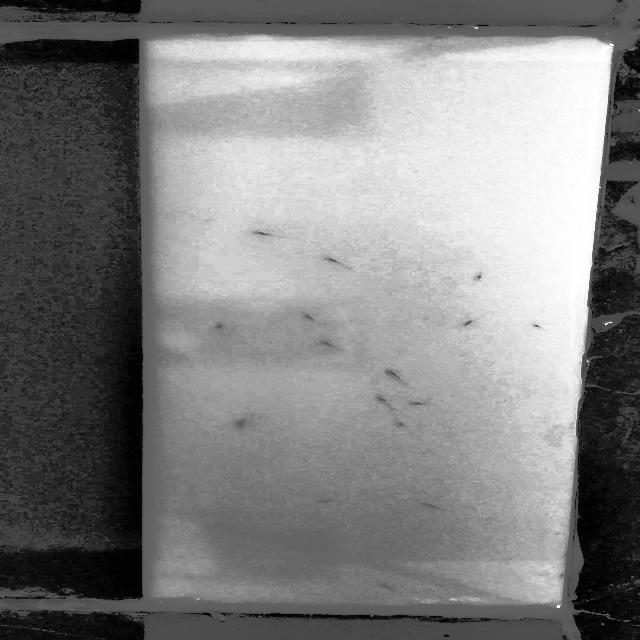shrimp: (514, 314, 558, 338), (311, 252, 356, 270), (448, 311, 484, 333), (377, 366, 410, 384), (363, 393, 397, 410), (290, 311, 327, 326), (368, 579, 406, 593), (413, 497, 448, 512), (224, 414, 252, 431), (244, 228, 286, 239), (311, 336, 341, 351), (459, 270, 495, 282), (382, 418, 416, 430), (206, 319, 230, 333), (407, 398, 429, 410)
